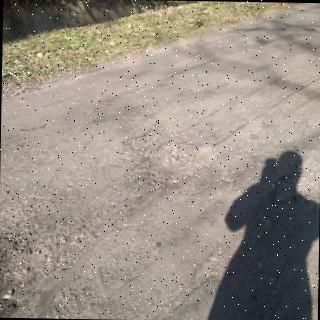pothole: (0, 232, 56, 317), (146, 140, 215, 188), (272, 155, 320, 202), (247, 270, 289, 320)
